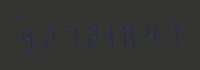eight: (122, 19, 142, 48)
four: (143, 18, 163, 47)
nine: (17, 22, 37, 52)
one: (101, 19, 121, 49)
seven: (164, 17, 184, 47), (59, 21, 79, 50)
two: (38, 22, 58, 51), (80, 20, 100, 49)
